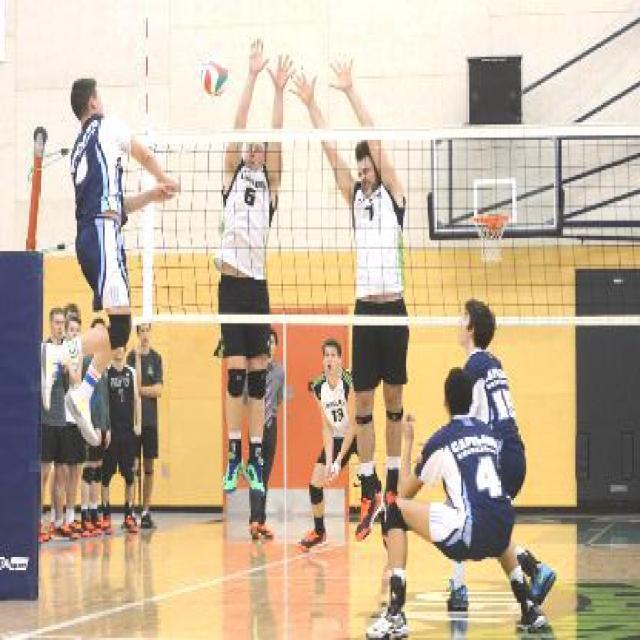volleyball: (200, 57, 230, 97)
